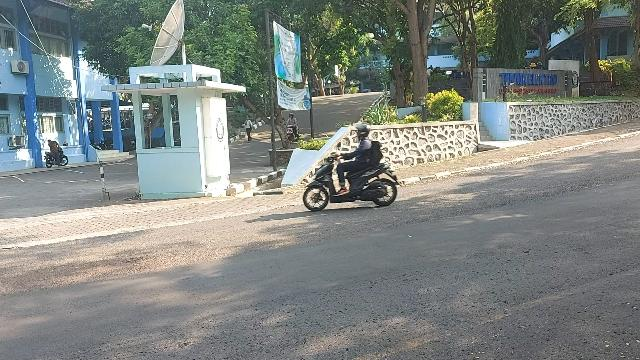helm: (355, 124, 371, 138)
motor: (305, 144, 404, 213)
